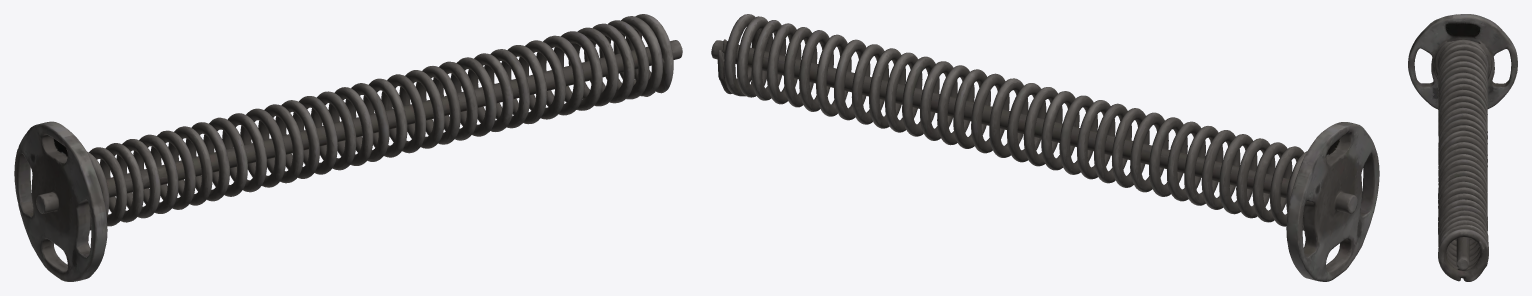
File: spring.glb
3 views of the same model, side by side, from view 1: azimuth 30°, elevation 25°; view 2: azimuth 150°, elevation 25°; view 3: azimuth 270°, elevation 25° (orthographic). The views are drawn at different scales.
Parts seen in each view (by area): view 1: geometry_0; view 2: geometry_0; view 3: geometry_0.
Part boxes in pixels (x1,y1,x2,y2): geometry_0: (14, 14, 682, 281); geometry_0: (711, 14, 1379, 281); geometry_0: (1408, 14, 1517, 281).
Size of the model in its own units: 1 by 0.2185 by 0.2229.
Materials: 1 (1 with a texture image).
